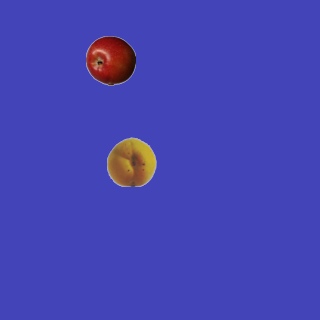Apple Braeburn: (85, 35, 135, 85)
Peach 2: (106, 136, 156, 186)
